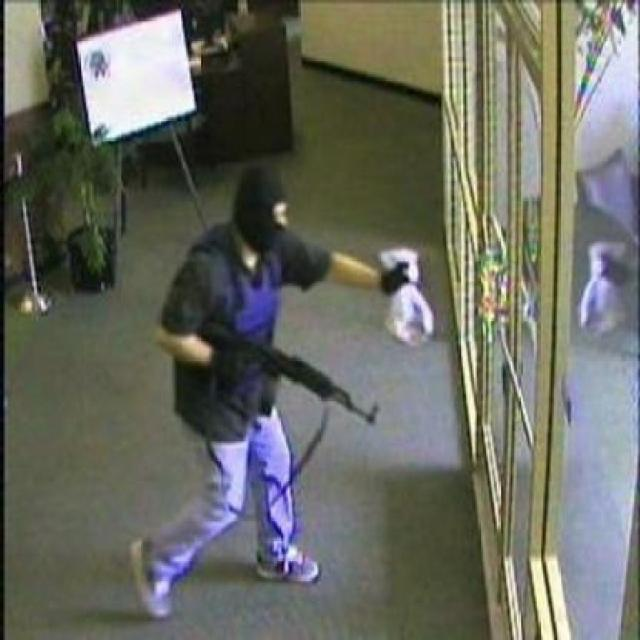weapon: (204, 318, 382, 457)
